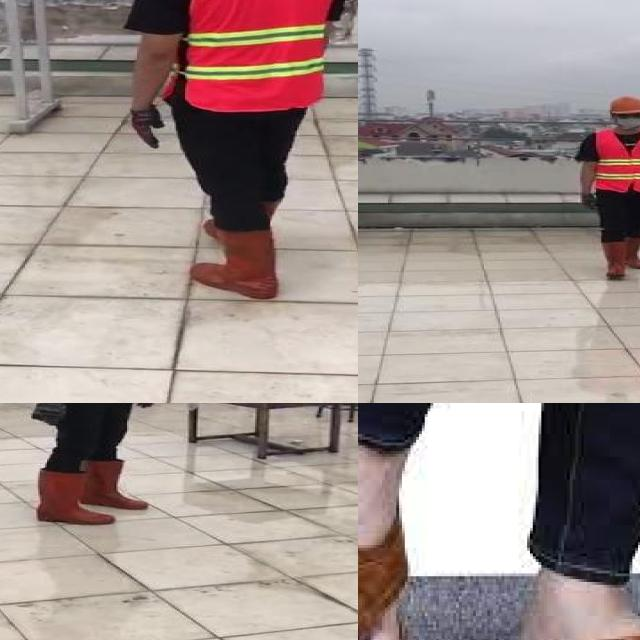Sandals: (358, 403, 412, 640)
boots: (194, 229, 281, 301), (33, 470, 113, 524), (79, 451, 147, 509), (594, 238, 635, 279), (623, 234, 640, 270)
face_mask: (613, 111, 640, 129)
glasses: (613, 110, 640, 120)
hand_glove: (132, 107, 164, 150), (34, 403, 66, 427), (578, 188, 602, 212), (132, 403, 155, 410)
head_helmet: (606, 95, 640, 116)
person: (114, 0, 356, 309), (23, 403, 165, 524), (572, 95, 640, 281)
vest: (172, 0, 341, 114), (594, 128, 640, 192)
